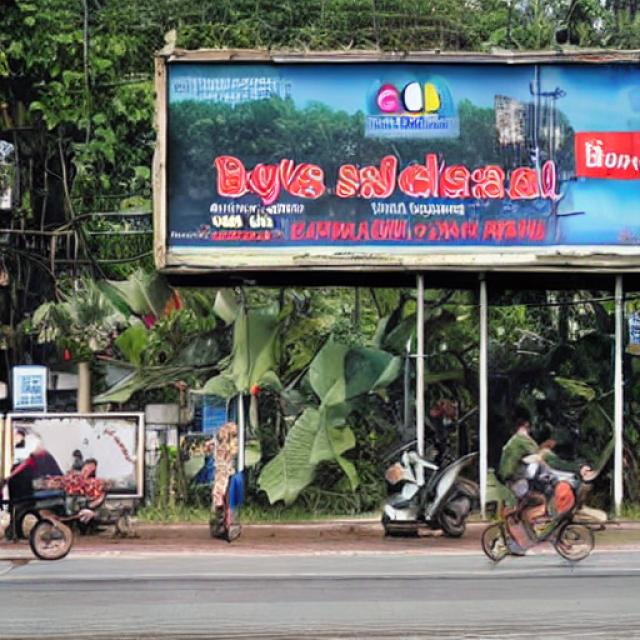Billboard: (152, 41, 640, 285)
